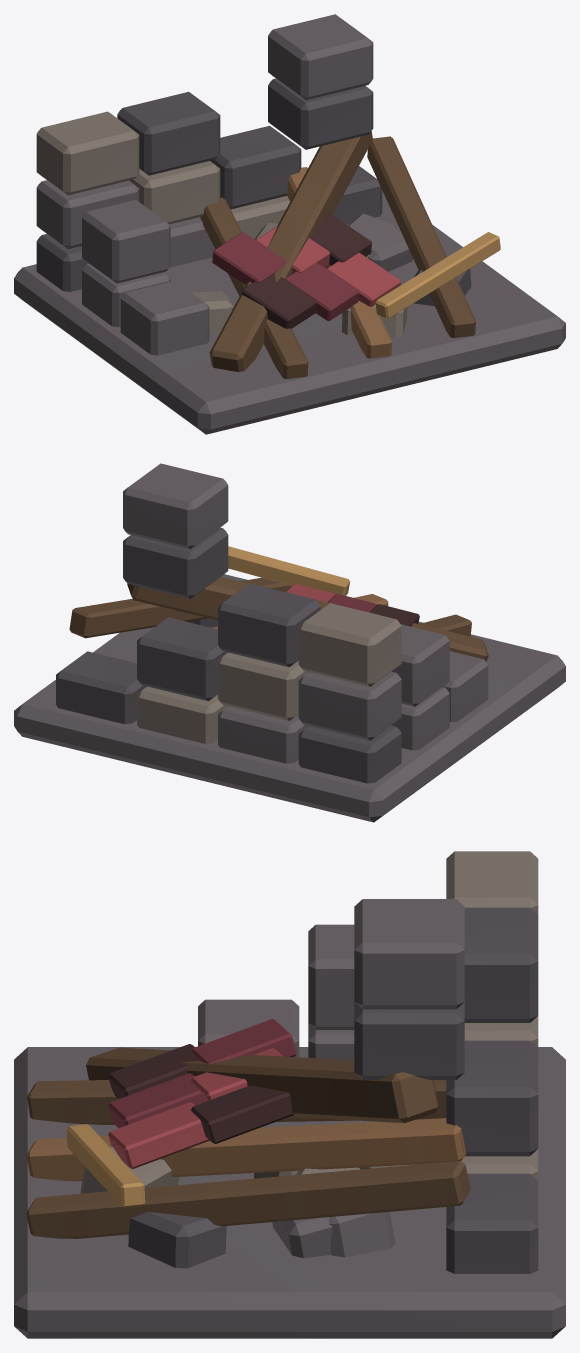
File: ruin_archer-eQHiwa0-.glb
The picture shows the model from 3 angles, top to bottom: view 1: azimuth 30°, elevation 25°; view 2: azimuth 150°, elevation 25°; view 3: azimuth 270°, elevation 25°; orthographic projection. The views are drawn at different scales.
Visible parts, largest first — view 1: ruin_archer_l1_body, ruin_archer_l1_gold; view 2: ruin_archer_l1_body, ruin_archer_l1_gold; view 3: ruin_archer_l1_body, ruin_archer_l1_gold.
Boxes of the visible parts, x1=… form: ruin_archer_l1_body: x1=14, y1=14, x2=565, y2=434; ruin_archer_l1_gold: x1=375, y1=232, x2=500, y2=318; ruin_archer_l1_body: x1=14, y1=463, x2=565, y2=822; ruin_archer_l1_gold: x1=228, y1=546, x2=349, y2=595; ruin_archer_l1_body: x1=14, y1=851, x2=565, y2=1338; ruin_archer_l1_gold: x1=66, y1=1124, x2=145, y2=1208.
Bounding box in the file's own units: 0.66 × 0.415 × 0.6.
Materials: 2 (2 with a texture image).
